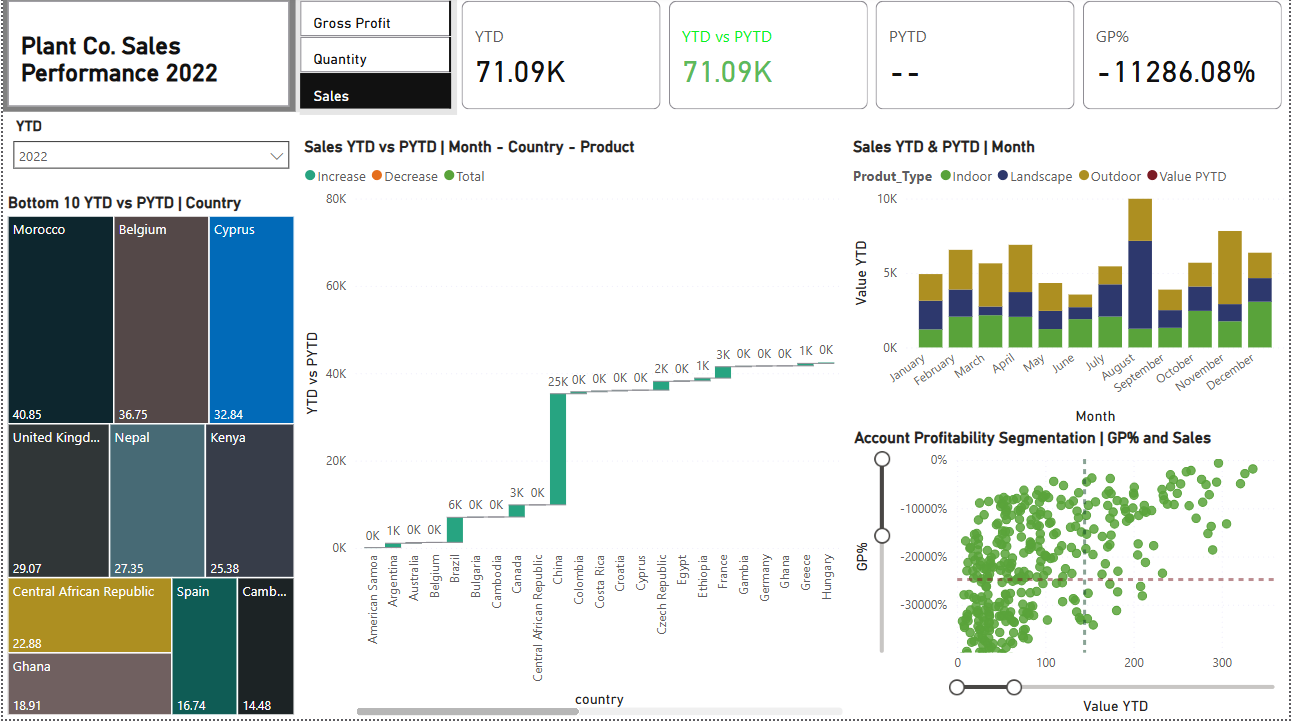

What the dashboard file says about the page in this screenshot:
{"tool":"powerbi","page":{"name":"Page 1","canvas":[1280,720],"ordinal":0},"visuals":[{"type":"cardVisual","fields":{"Data":["_Measures.S_YTD","_Measures.YTD vs PYTD","_Measures.S_PYTD","_Measures.GP%"]},"box":[451.5,0,828.8,118],"z":0},{"type":"advancedSlicerVisual","fields":{"Values":["Slc_Values.Values"]},"box":[290.9,0,160.5,118],"z":1},{"type":"slicer","fields":{"Values":["Dim_Date.Date.Variation.Date Hierarchy.Year"]},"box":[0,115.3,295,81],"z":3},{"type":"treemap","title":"Bottom 10 YTD vs PYTD | Country","fields":{"Group":["Dim_Account.country"],"Values":["_Measures.YTD vs PYTD"]},"box":[0,196.2,295,524.2],"z":4},{"type":"waterfallChart","fields":{"Y":["_Measures.YTD vs PYTD"],"Category":["Dim_Date.Date.Variation.Date Hierarchy.Month","Dim_Account.country","Dim_Product.Produt_Type","Dim_Product.Product_Name"]},"box":[295,140,546.1,580.4],"z":5},{"type":"lineStackedColumnComboChart","fields":{"Y":["_Measures.S_YTD"],"Y2":["_Measures.S_PYTD"],"Category":["Dim_Date.Date.Variation.Date Hierarchy.Quarter","Dim_Date.Date.Variation.Date Hierarchy.Month"],"Series":["Dim_Product.Produt_Type"]},"box":[841.2,140,439.1,290.9],"z":6},{"type":"scatterChart","fields":{"Y":["_Measures.GP%"],"X":["_Measures.S_YTD"],"Category":["Dim_Account.Account"]},"box":[842,431,438,289],"z":7},{"type":"cardVisual","fields":{"Data":["_Measures._Report title"]},"box":[0,0,290.9,115.3],"z":8}]}

Visuals, with their boxes in screenshot pixels (x1, y1, x2, y2), scaled from the page's 1280x720 canvas onto the 1292x721 screenshot:
cardVisual - _Measures.S_YTD x _Measures.YTD vs PYTD: <bbox>456, 0, 1291, 118</bbox>
advancedSlicerVisual - Slc_Values.Values: <bbox>294, 0, 456, 118</bbox>
slicer - Dim_Date.Date.Variation.Date Hierarchy.Year: <bbox>0, 115, 298, 197</bbox>
"Bottom 10 YTD vs PYTD | Country" treemap: <bbox>0, 196, 298, 720</bbox>
waterfallChart - _Measures.YTD vs PYTD x Dim_Date.Date.Variation.Date Hierarchy.Month: <bbox>298, 140, 849, 720</bbox>
lineStackedColumnComboChart - _Measures.S_YTD x _Measures.S_PYTD: <bbox>849, 140, 1291, 431</bbox>
scatterChart - _Measures.GP% x _Measures.S_YTD: <bbox>850, 432, 1291, 720</bbox>
cardVisual - _Measures._Report title: <bbox>0, 0, 294, 115</bbox>
